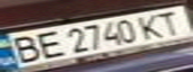0: (115, 17, 142, 44)
2: (63, 25, 87, 55)
4: (100, 19, 124, 47)
7: (81, 21, 106, 51)
B: (3, 33, 45, 64)
E: (30, 28, 66, 60)
K: (133, 11, 169, 39)
T: (151, 8, 190, 36)
